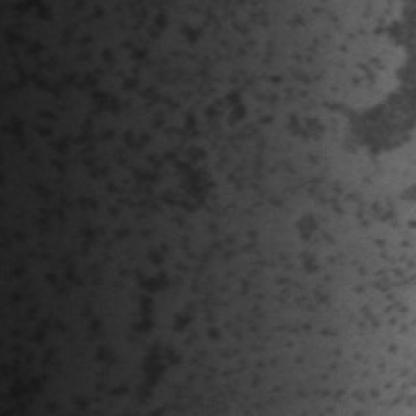pitted_surface: (17, 34, 416, 414), (331, 13, 416, 166)
